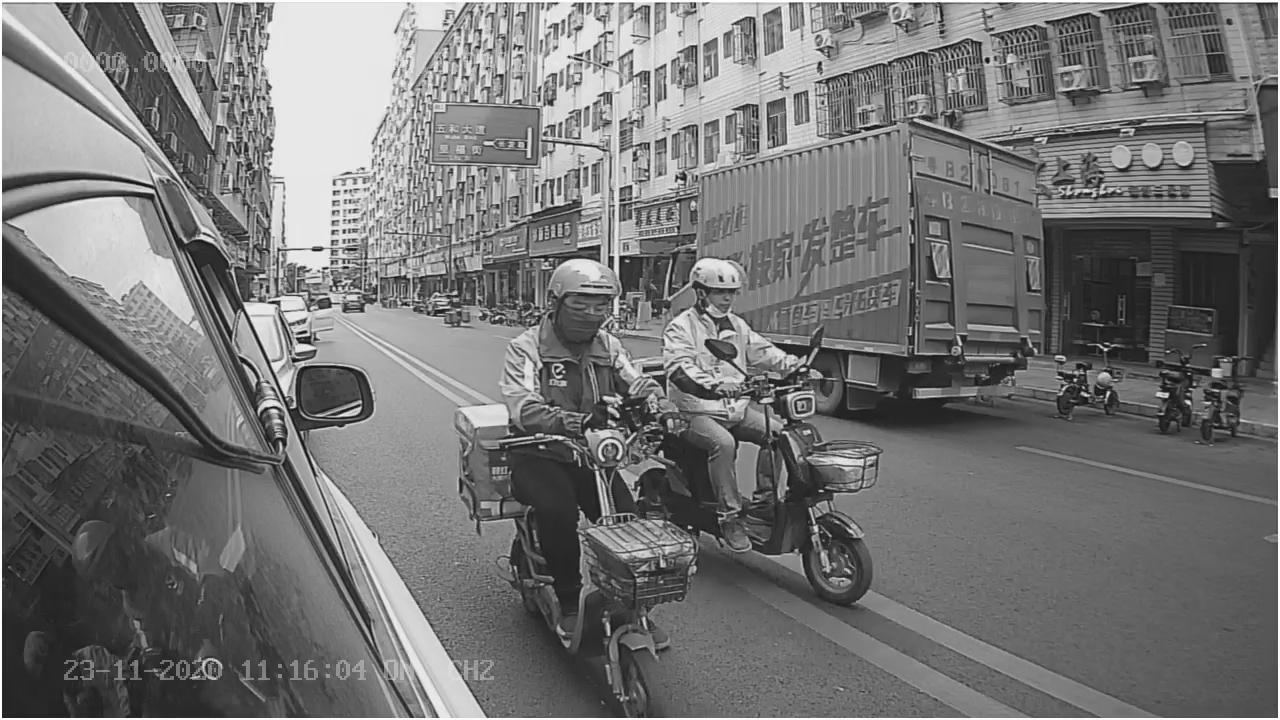person: (497, 254, 662, 417), (657, 255, 809, 371)
